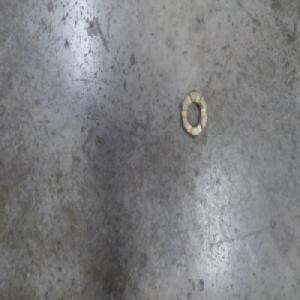Nut: (180, 87, 207, 140)
